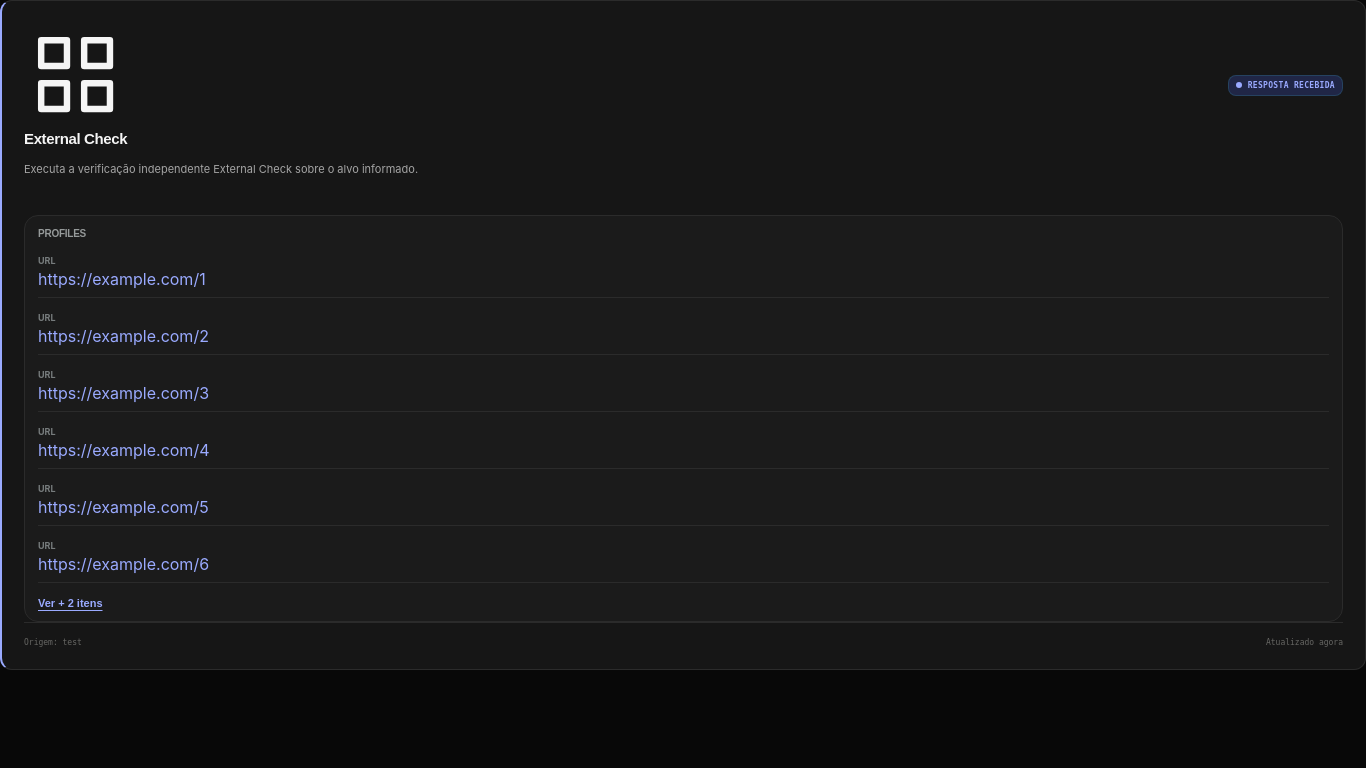
Scenario: ResultCard › expande e recolhe listas de resultados longas
The width and height of the screenshot is (1366, 768).
Expected: the text "https://example.com/8" is not shown
Click the button "Ver + 2 itens": {"x": 70, "y": 603} [38,597,102,609]
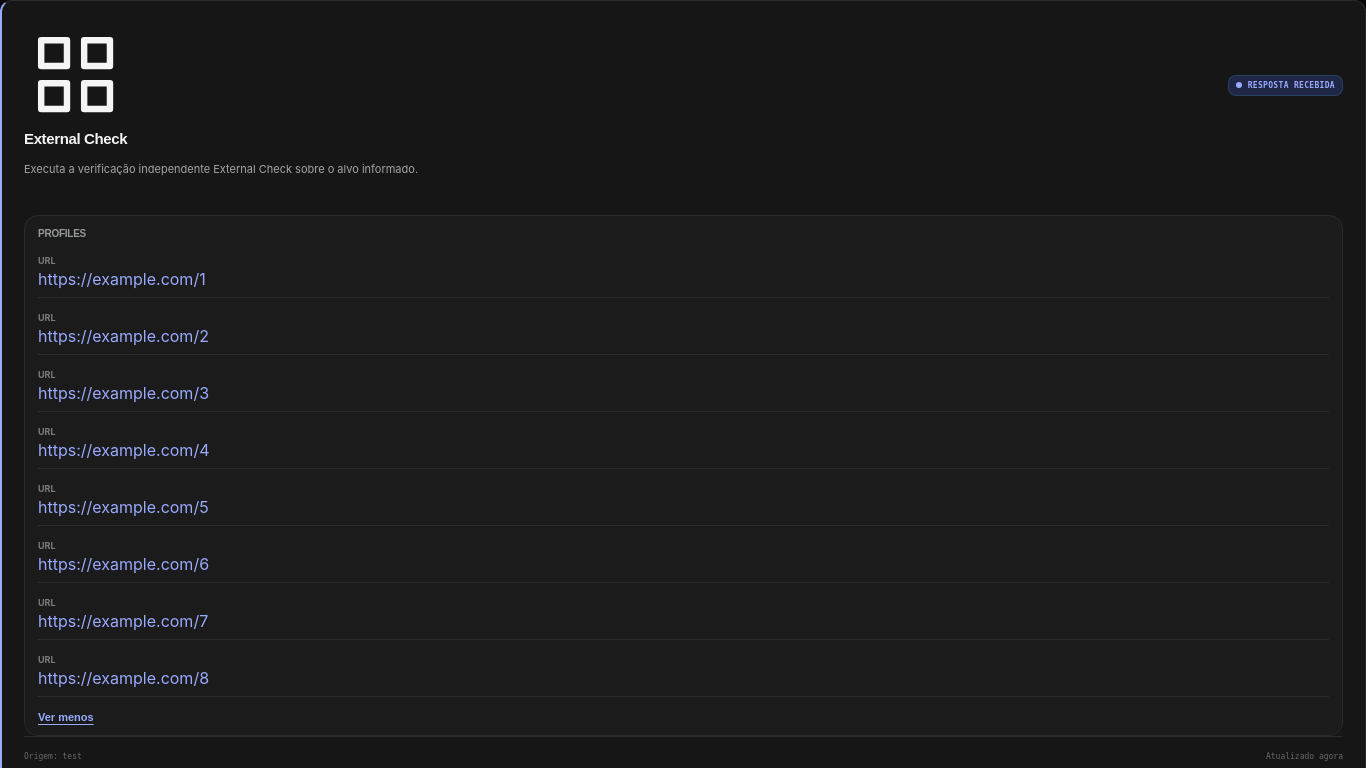
Expected: the link "https://example.com/8" is shown, [38,668,209,688]
Click the button "Ver menos": {"x": 66, "y": 717} [38,711,94,723]
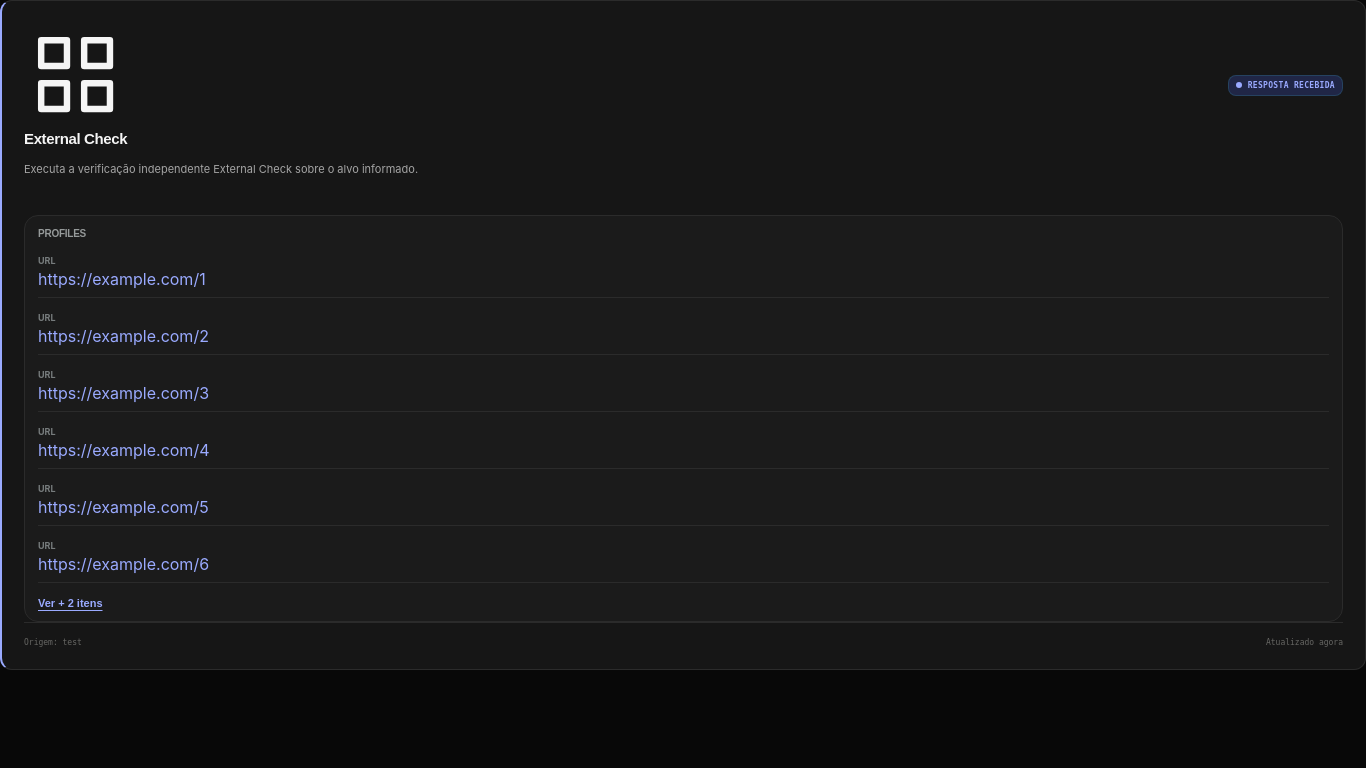
Expected: the link "https://example.com/8" is gone
